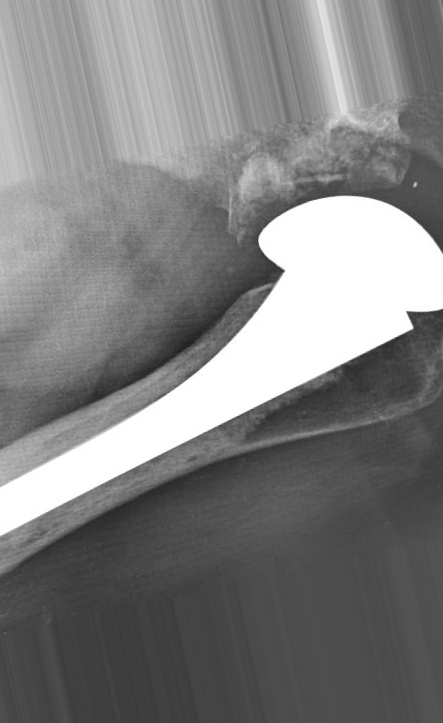Shoulder - Anotomyhead - Stryker: (243, 182, 443, 368)
Shoulder - Anotomytail - Stryker: (209, 241, 427, 416)
